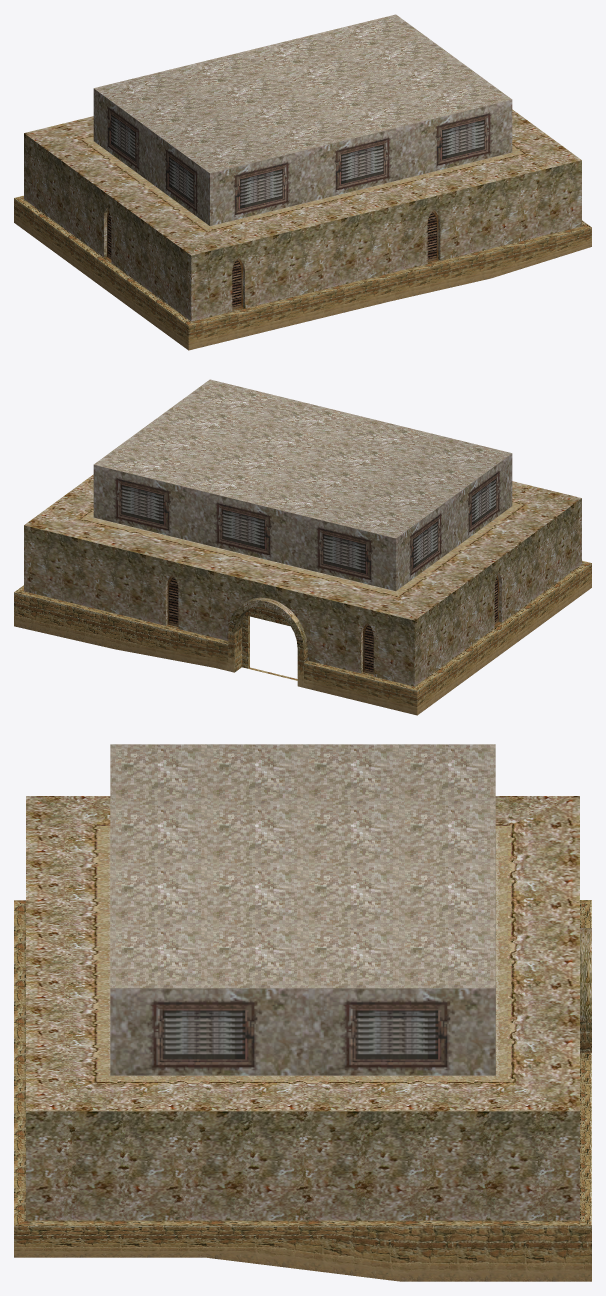
File: M5Z1_VillageExt_01.glb
3 views of the same model, one above another, from view 1: azimuth 30°, elevation 25°; view 2: azimuth 150°, elevation 25°; view 3: azimuth 270°, elevation 25° (orthographic). The views are drawn at different scales.
Parts seen in each view (by area): view 1: M5Z1_VILLAGEEXT_01; view 2: M5Z1_VILLAGEEXT_01; view 3: M5Z1_VILLAGEEXT_01.
Boxes of the visible parts, left/top/right/bottom form: M5Z1_VILLAGEEXT_01: left=14, top=14, right=591, bottom=350; M5Z1_VILLAGEEXT_01: left=14, top=379, right=591, bottom=715; M5Z1_VILLAGEEXT_01: left=14, top=744, right=591, bottom=1281.
Bounding box in the file's own units: 16 × 5.79 × 12.
6 materials, 6 textured.
